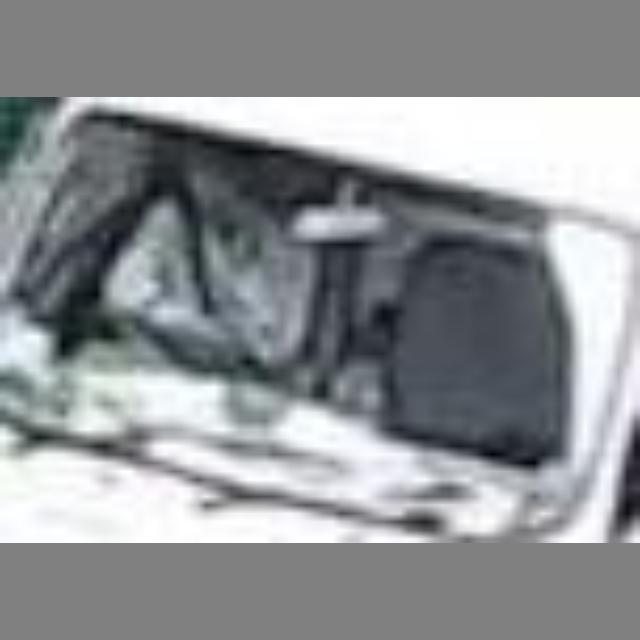pakai: (101, 181, 328, 366)
